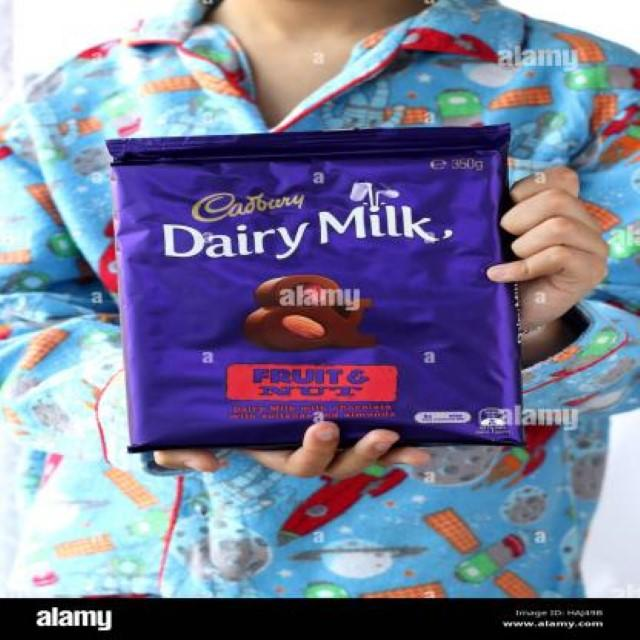cadbury_chocolate: (112, 137, 525, 430)
